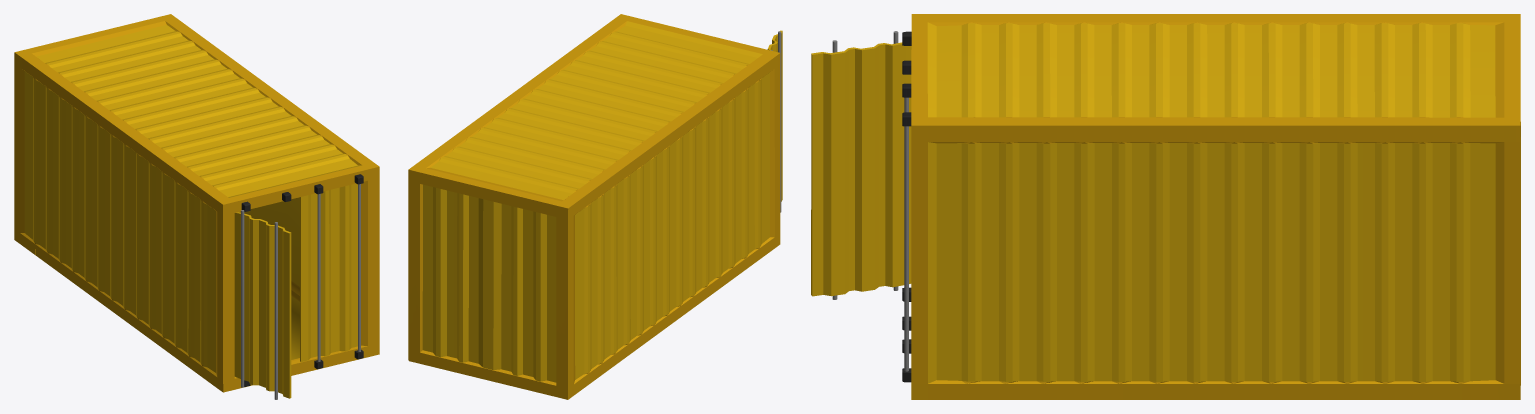
The model's file is Small Yellow Shipping Container Open.fbx.
The picture shows the model from 3 angles, left to right: view 1: azimuth 30°, elevation 25°; view 2: azimuth 150°, elevation 25°; view 3: azimuth 270°, elevation 25°; orthographic projection. The views are drawn at different scales.
Visible parts, largest first — view 1: Small Green Shipping Container Open; view 2: Small Green Shipping Container Open; view 3: Small Green Shipping Container Open.
Boxes of the visible parts, x1,y1,x2,y2 form: Small Green Shipping Container Open: (14,14,379,399); Small Green Shipping Container Open: (408,14,782,399); Small Green Shipping Container Open: (811,14,1520,399).
Size of the model in its own units: 1062 by 2490 by 928.
Materials: 1 (1 with a texture image).
